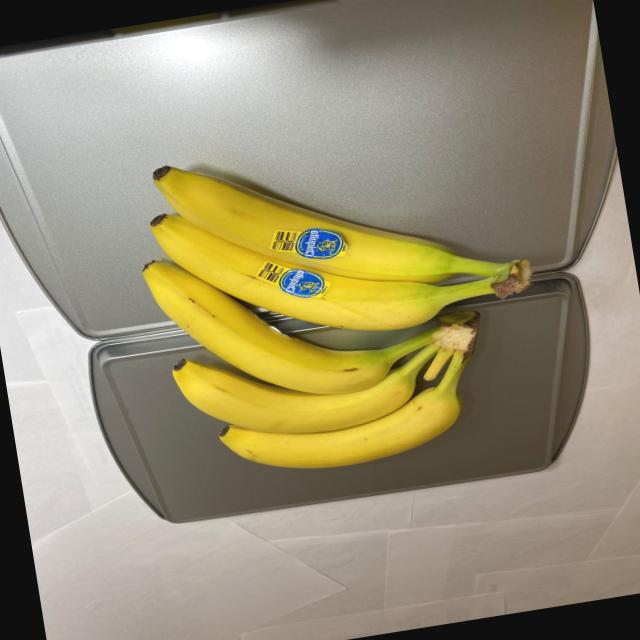banana: (120, 108, 564, 499)
